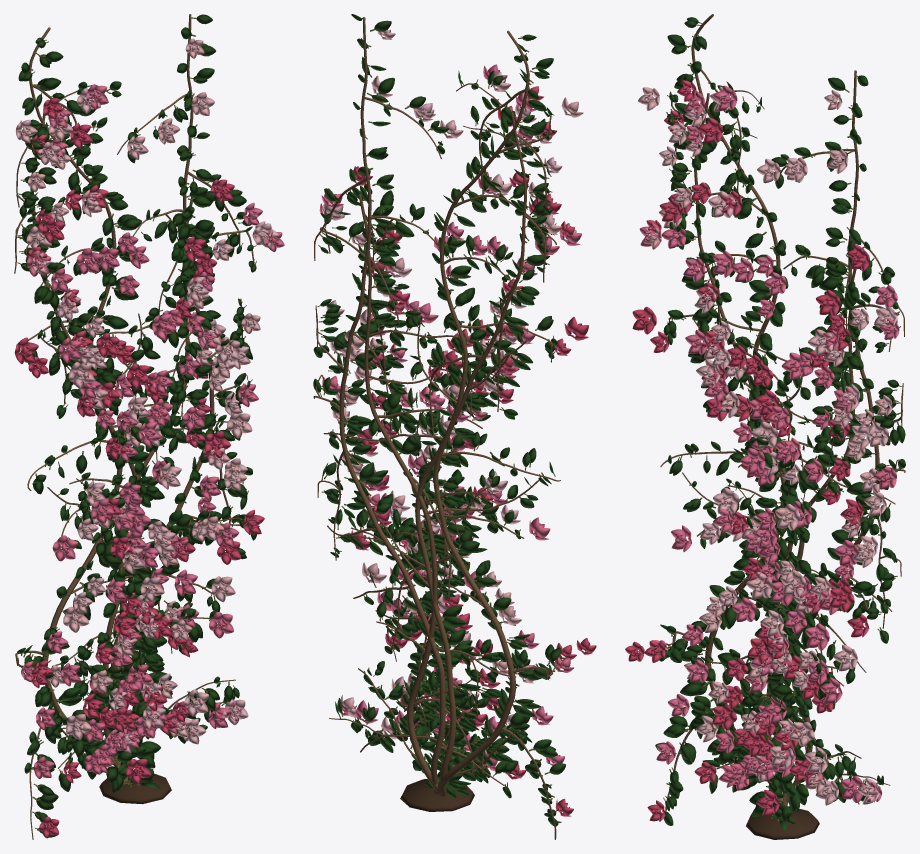
The model's file is climber_rose_45.glb.
3 views of the same model, side by side, from view 1: azimuth 30°, elevation 25°; view 2: azimuth 150°, elevation 25°; view 3: azimuth 330°, elevation 25° (orthographic). The views are drawn at different scales.
Visible parts, largest first — view 1: Sammel Pflanze, Sammel Holz, Sammel Putz; view 2: Sammel Pflanze, Sammel Holz, Sammel Putz; view 3: Sammel Pflanze, Sammel Holz, Sammel Putz.
Boxes of the visible parts, <box> form: Sammel Pflanze: <box>14,14,284,838</box>; Sammel Holz: <box>14,14,259,839</box>; Sammel Putz: <box>17,17,256,830</box>; Sammel Pflanze: <box>313,14,596,826</box>; Sammel Holz: <box>313,17,560,839</box>; Sammel Putz: <box>317,18,564,824</box>; Sammel Pflanze: <box>625,17,905,831</box>; Sammel Holz: <box>660,14,905,811</box>; Sammel Putz: <box>658,22,901,839</box>.
Size of the model in its own units: 1.42 by 4.05 by 0.4695.
